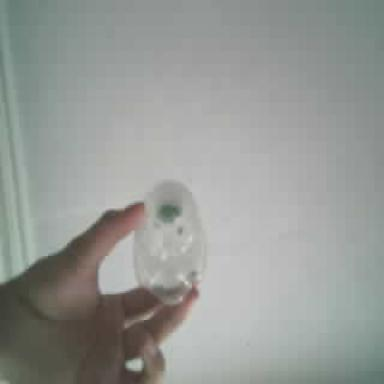bottle: (134, 182, 204, 302)
